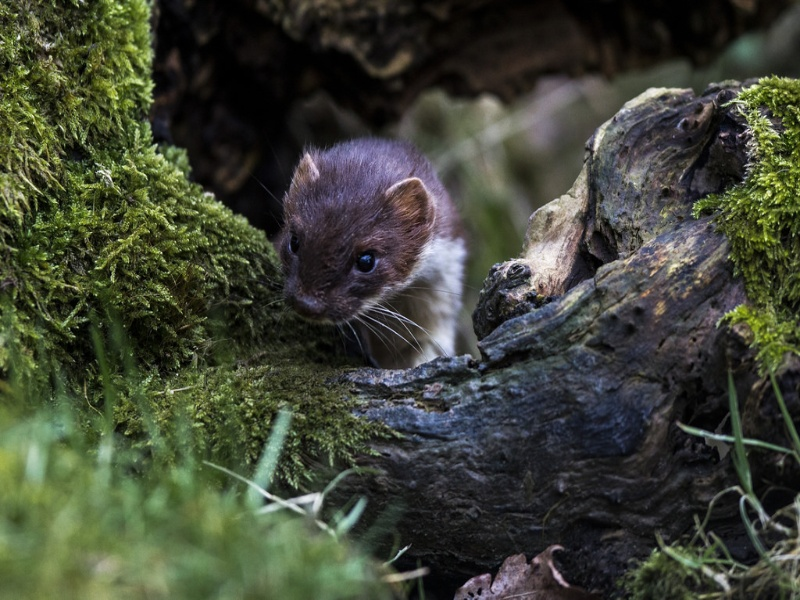minkish: (263, 136, 464, 377)
